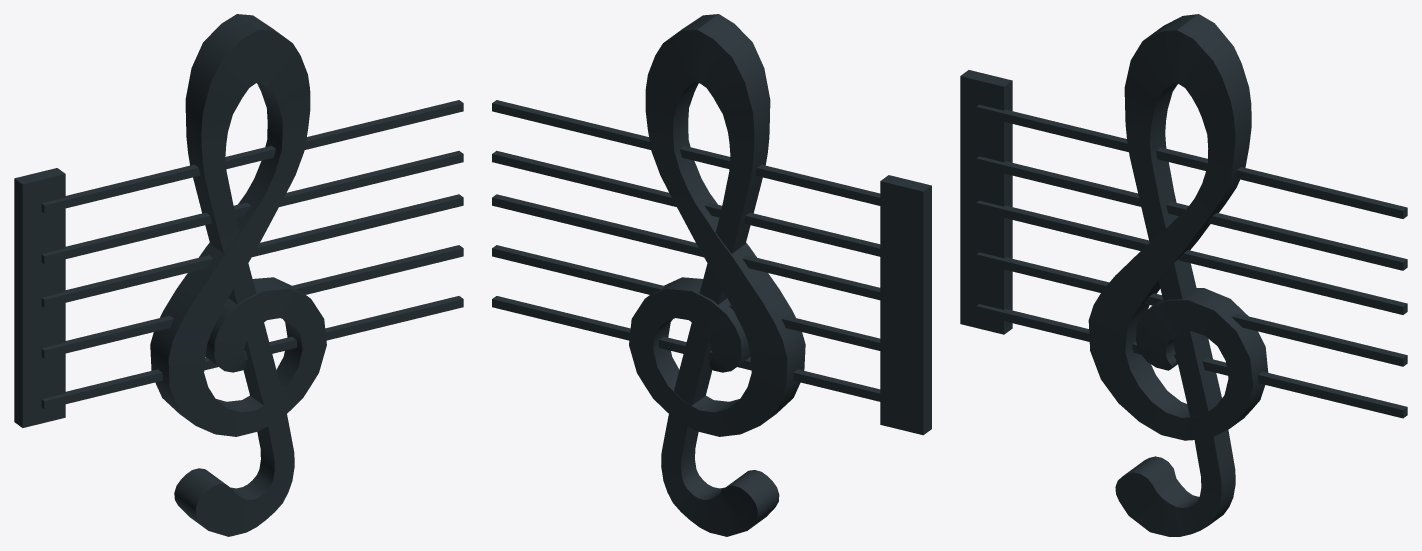
The model's file is musical_score.glb.
3 renders of one model, left to right at view 1: azimuth 30°, elevation 25°; view 2: azimuth 150°, elevation 25°; view 3: azimuth 330°, elevation 25°, orthographic.
Parts seen in each view (by area): view 1: Cube.847; view 2: Cube.847; view 3: Cube.847.
Part boxes in pixels (left/top/right/bottom): Cube.847: left=14, top=14, right=463, bottom=536; Cube.847: left=492, top=14, right=931, bottom=536; Cube.847: left=960, top=14, right=1407, bottom=536.
Bounding box in the file's own units: 2.06 × 2.25 × 0.1853.
Materials: 1 (1 with a texture image).
